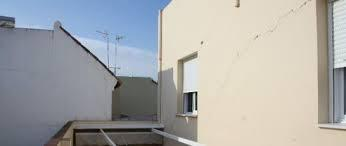crack: (266, 0, 310, 33)
